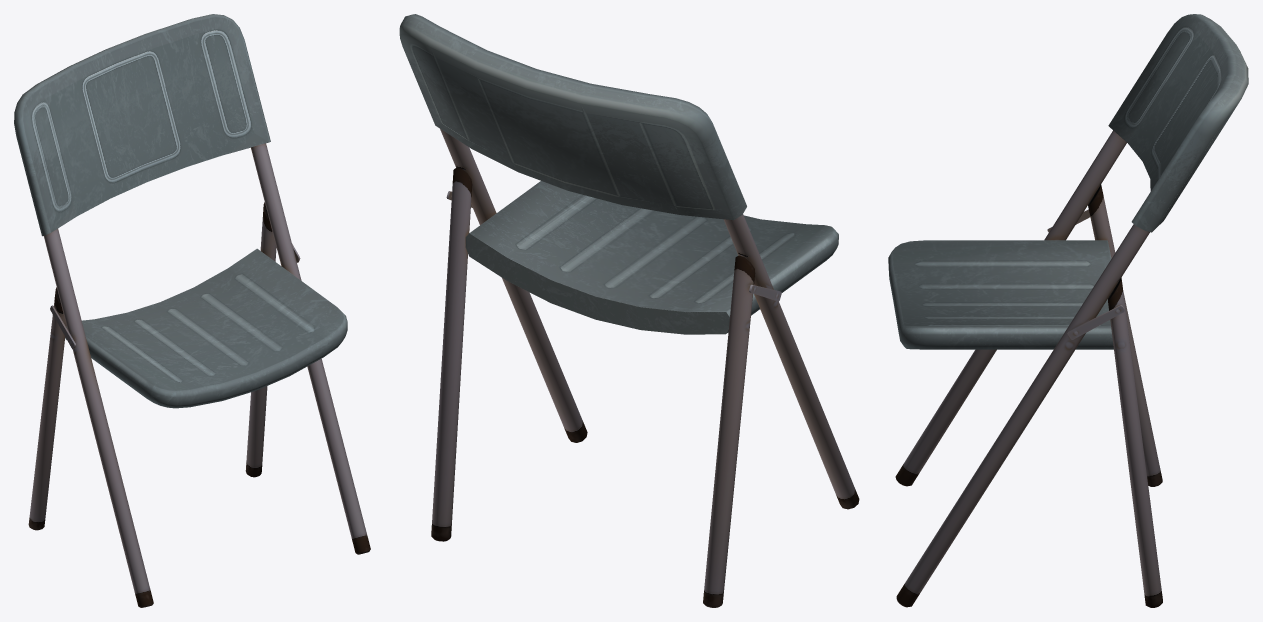
Rendered from Chair01_1.FBX.
3 views of the same model, side by side, from view 1: azimuth 30°, elevation 25°; view 2: azimuth 150°, elevation 25°; view 3: azimuth 270°, elevation 25° (orthographic). The views are drawn at different scales.
Parts seen in each view (by area): view 1: Chair01_1; view 2: Chair01_1; view 3: Chair01_1.
Boxes of the visible parts, box(x1,y1,x2,y2) form: Chair01_1: box(14, 14, 370, 607); Chair01_1: box(399, 14, 859, 607); Chair01_1: box(888, 14, 1248, 607).
Size of what is drawn, in the model's own units: 0.5398 by 0.9683 by 0.6263.
